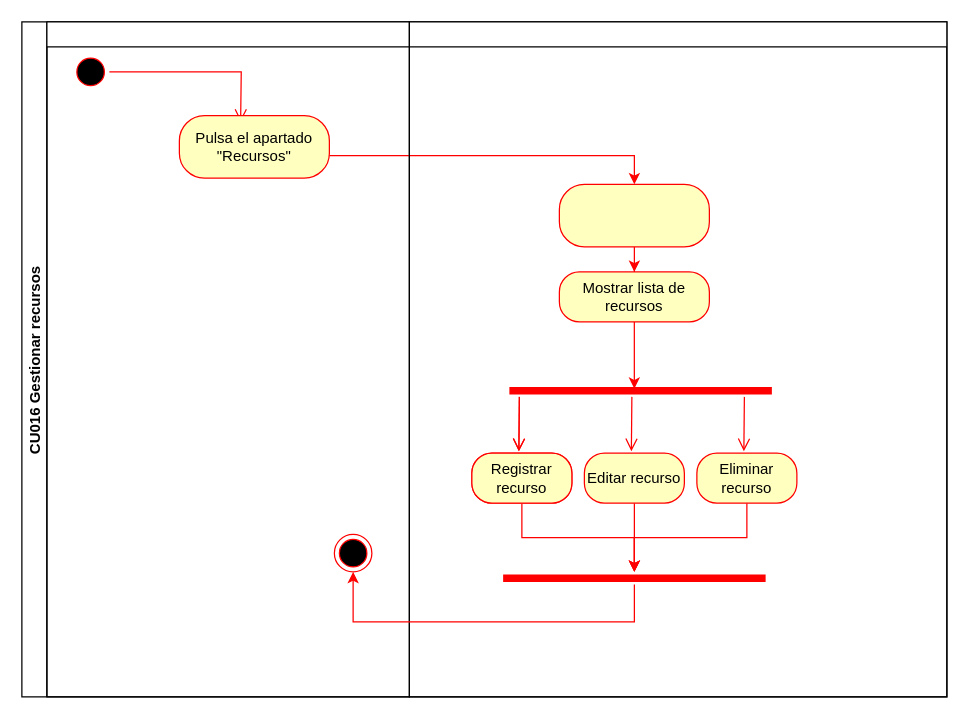
This 969x719 diagram has some shape labels left out. The shapes that lost their labels are listed below. From the top down, each one's box as (x1, y1, x2, y2) in pixels, then its label:
(558, 183, 709, 247): Mostrar apartado
(46, 21, 409, 697): Administrador
(408, 21, 947, 697): Sistema
